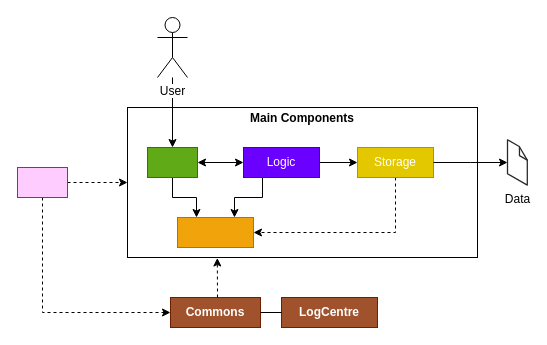
Some shapes in this 547 by 345 pixel diagram are drawn without their labels. The shapes that lost their labels are listed below. From the top down, each one's centre as x and y in pixels, then its label:
At (x=42, y=182): "Main".
At (x=172, y=162): "UI".
At (x=215, y=232): "Model".
